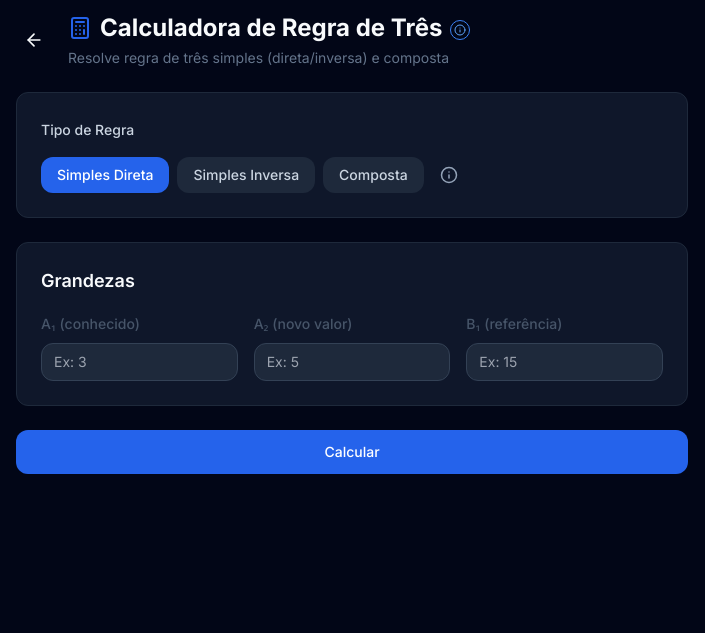
Test: RegraDeTresPage › valida quando os valores não estão preenchidos
Click the button "Calcular": [352, 452] box [16,430,688,474]
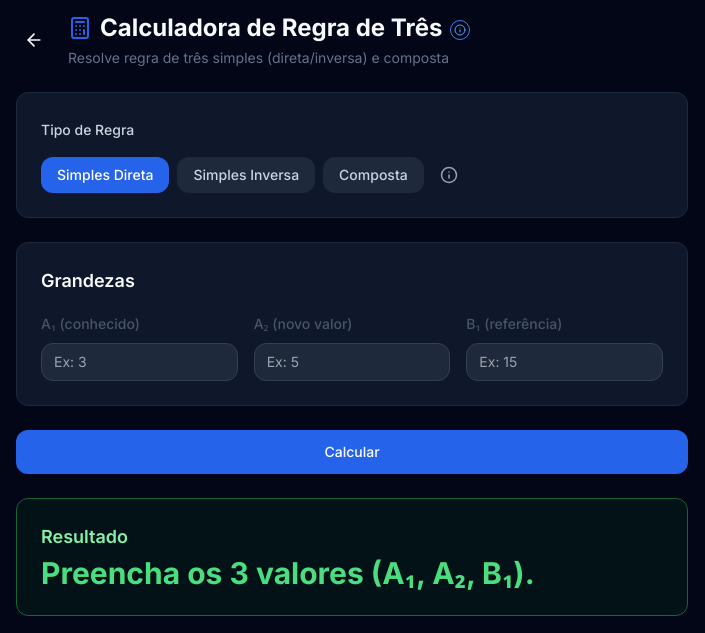
Expected: the text "Preencha os 3 valores (A₁, A₂, B₁)." is shown, [41,555,535,591]
